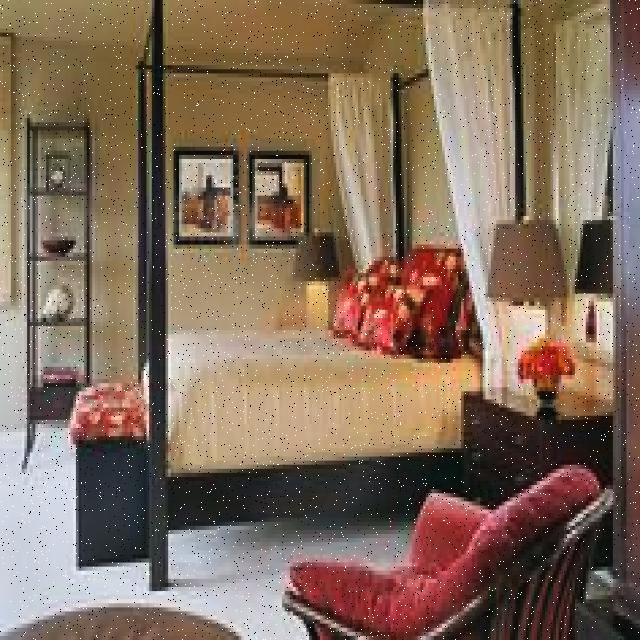bed: (148, 235, 490, 478)
